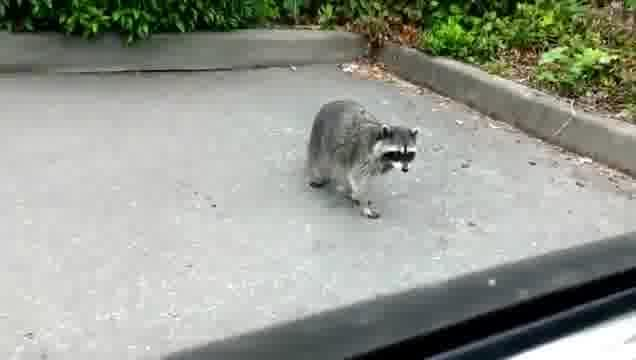raccoon: (307, 99, 421, 221)
